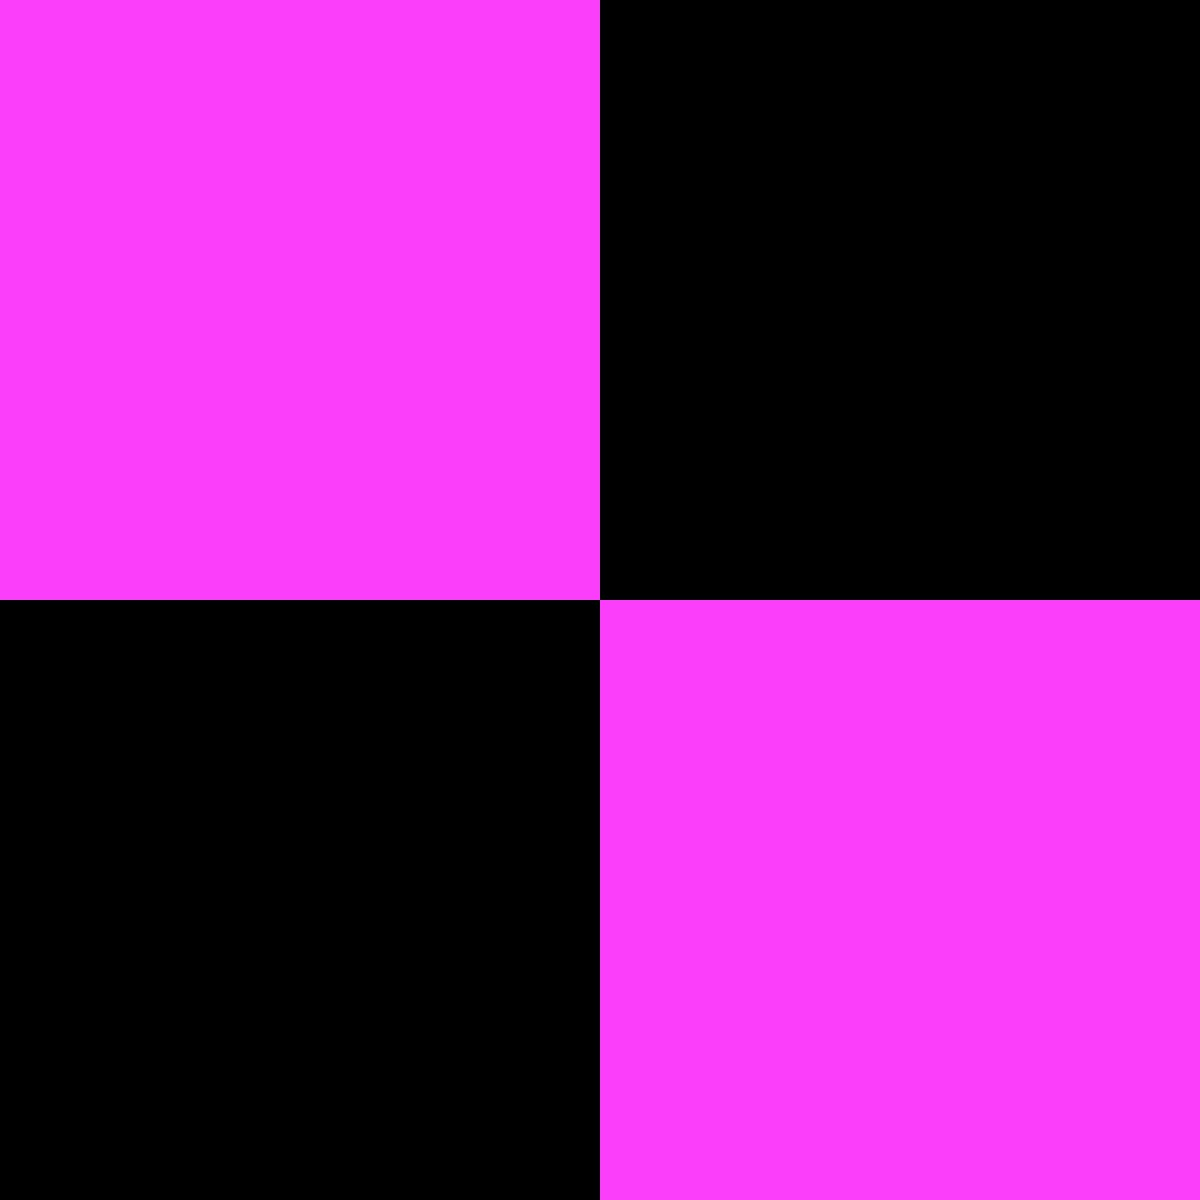pink_zone: (0, 0, 623, 630), (570, 584, 1200, 1200)
